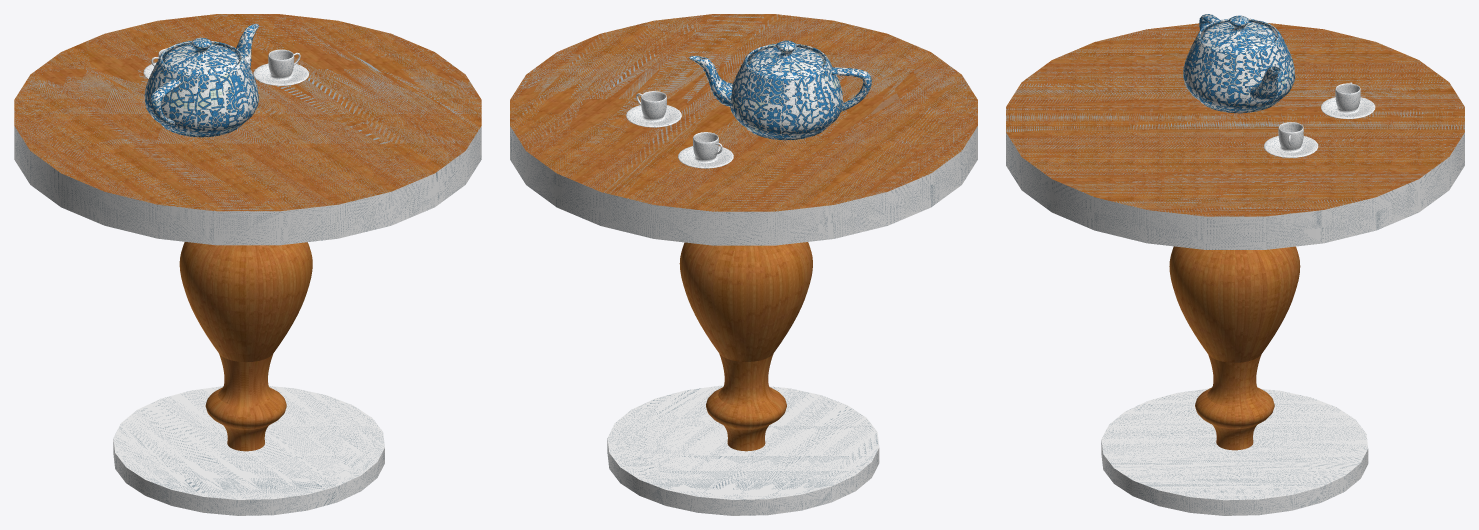
Rendered from table-top-coffee.dae.
3 views of the same model, side by side, from view 1: azimuth 30°, elevation 25°; view 2: azimuth 150°, elevation 25°; view 3: azimuth 270°, elevation 25° (orthographic).
Parts seen in each view (by area): view 1: group_0 (×3), group_1, group_2 (×3), Teacup; view 2: group_0 (×3), group_1, group_2 (×4), Teacup (×2); view 3: group_0 (×3), group_1, group_2 (×3), Teacup (×2).
Part boxes in pixels (x1=…): group_0 (×3): x1=14, y1=14, x2=481, y2=515; group_1: x1=179, y1=242, x2=312, y2=451; group_2 (×3): x1=144, y1=37, x2=258, y2=137; Teacup: x1=253, y1=49, x2=308, y2=85; group_0 (×3): x1=510, y1=14, x2=977, y2=515; group_1: x1=679, y1=242, x2=812, y2=451; group_2 (×4): x1=689, y1=40, x2=871, y2=140; Teacup (×2): x1=626, y1=91, x2=733, y2=168; group_0 (×3): x1=1006, y1=23, x2=1464, y2=515; group_1: x1=1169, y1=246, x2=1300, y2=450; group_2 (×3): x1=1183, y1=15, x2=1295, y2=113; Teacup (×2): x1=1264, y1=83, x2=1375, y2=157.
Bounding box in the file's own units: 16.35 × 16.35 × 16.5.
Materials: 5 (3 with a texture image).
